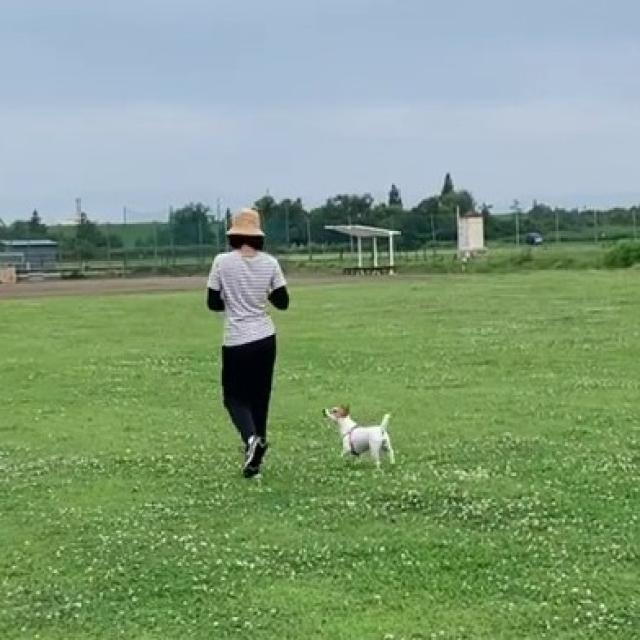Unleashed_Dog: (237, 339, 397, 471)
